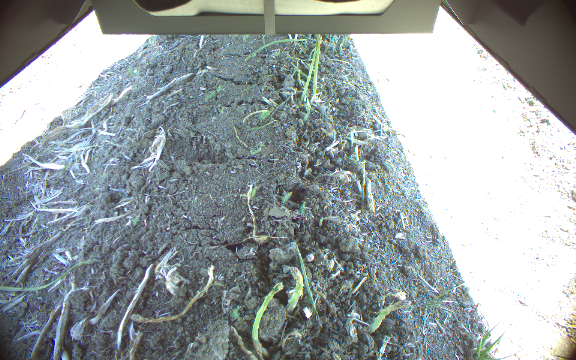aspa: (251, 281, 284, 358), (363, 300, 411, 335), (284, 266, 306, 315), (299, 48, 318, 104), (312, 34, 324, 97)
